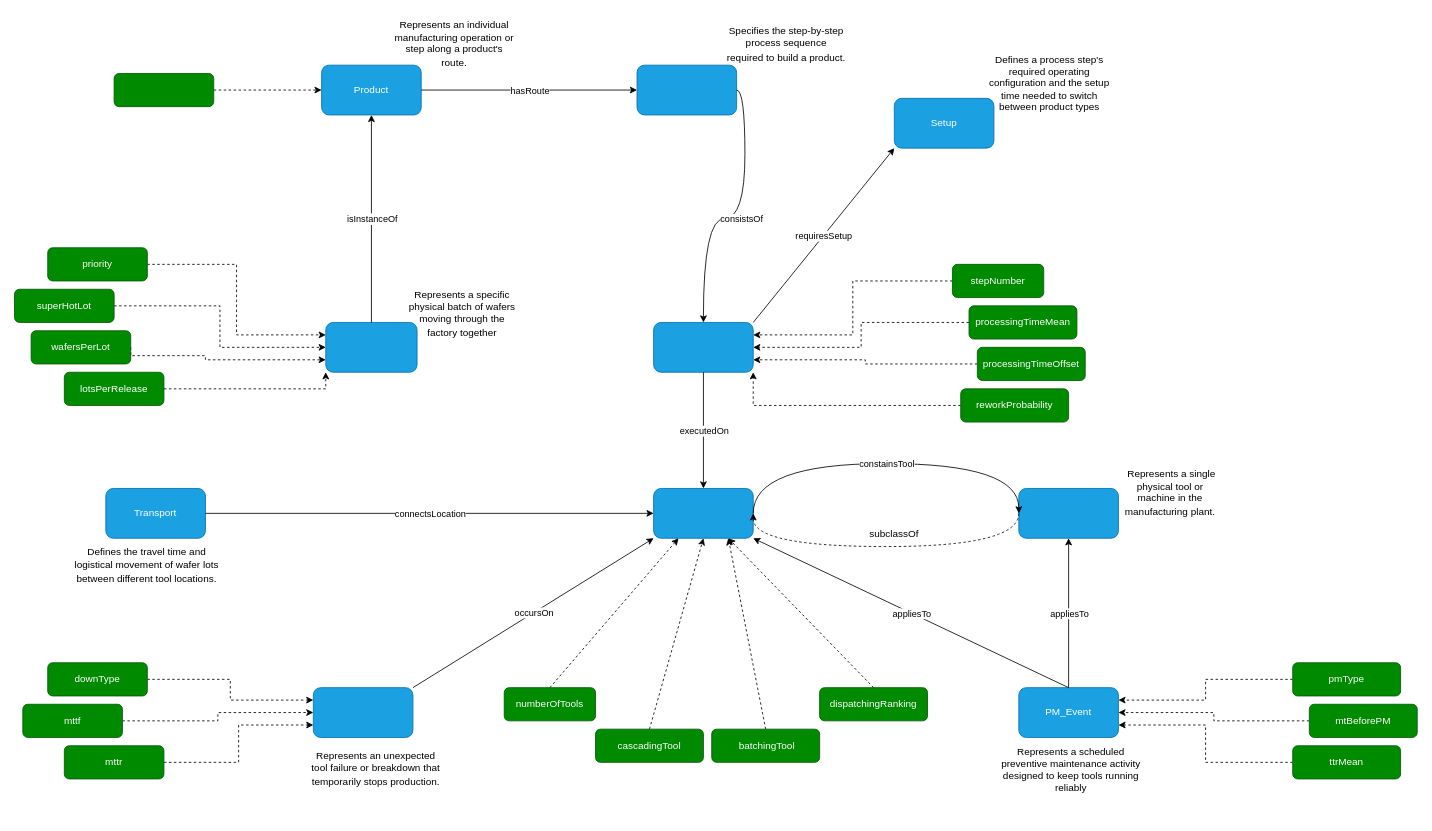
Some shapes in this 1432 by 831 pixel diagram are drawn without their labels. The centre of each missing label's shape, as x and y in pixels:
"Breakdown_Event" belongs at (x=362, y=712).
"Lot" belongs at (x=371, y=347).
"Process_Step" belongs at (x=703, y=347).
"productName" belongs at (x=163, y=90).
"Route" belongs at (x=686, y=89).
"Tool" belongs at (x=1068, y=513).
"Tool_Group" belongs at (x=703, y=513).
